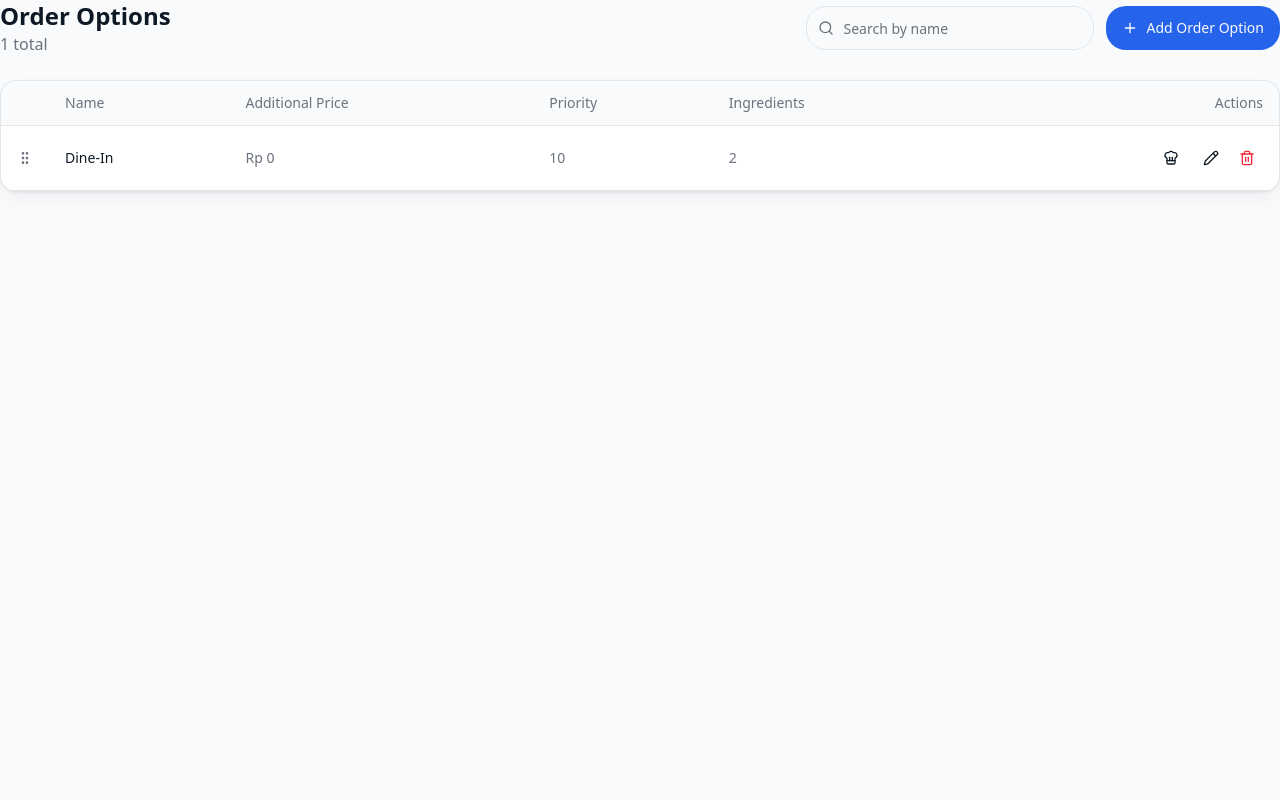
it: AdminOrderOptionsPage › maps duplicate name conflict onto the name field
The image size is (1280, 800).
Expected: the text "Dine-In" is shown, [49,126,230,190]
Click the button "Add Order Option" at point(1193, 28), box [1106,6,1279,50]
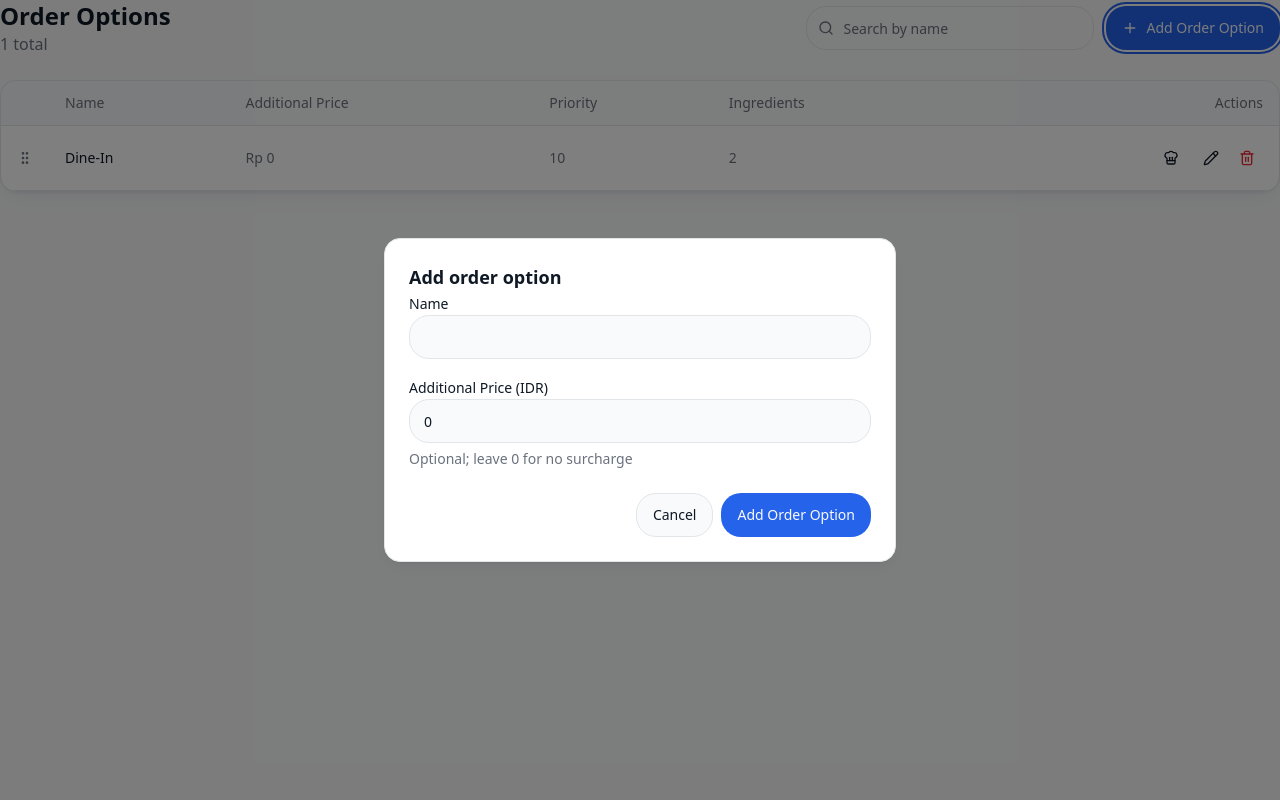
Type "Dine-In" into the field labelled "Name" at point(640, 337), box [409,315,871,359]
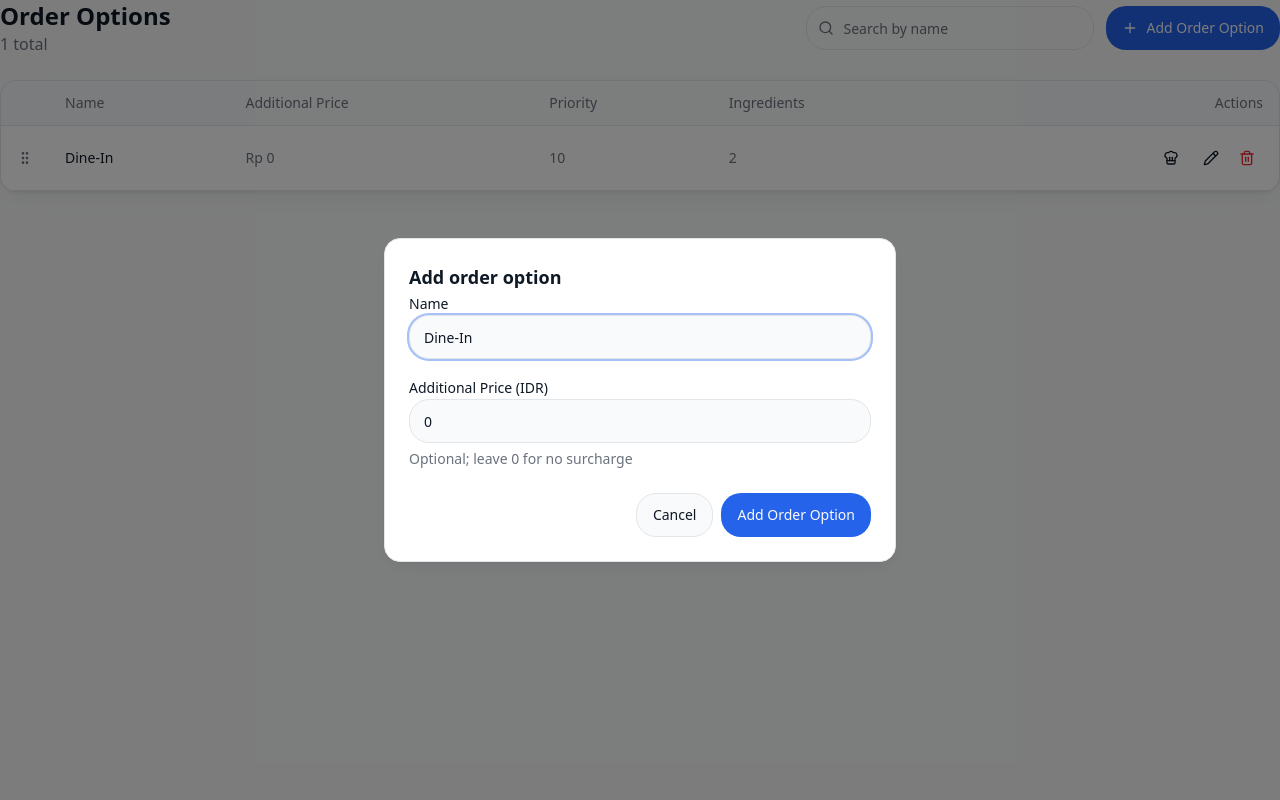
Click the button "Add Order Option" at point(796, 515), box [722,493,871,537]
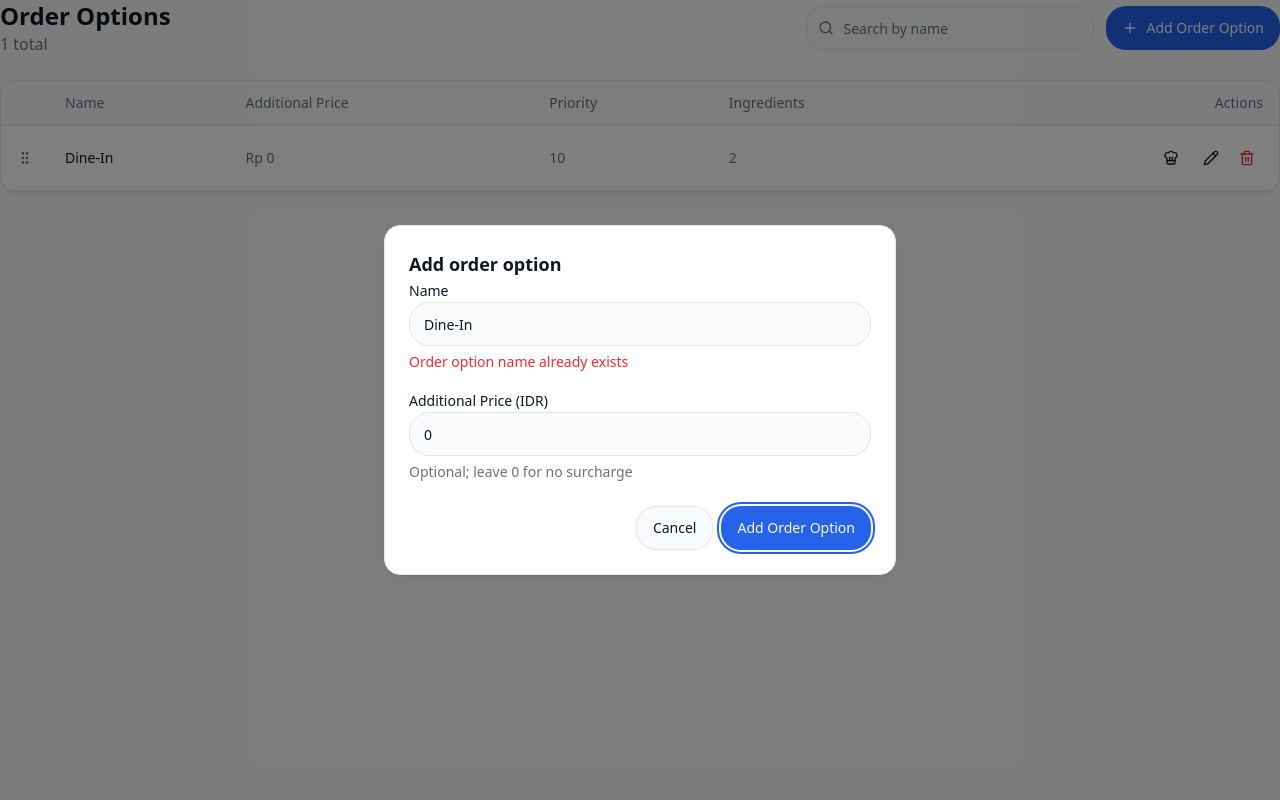
Expected: the dialog is shown, [384,225,896,575]
Expected: the text "Order option name already exists" is shown, [409,352,628,371]
